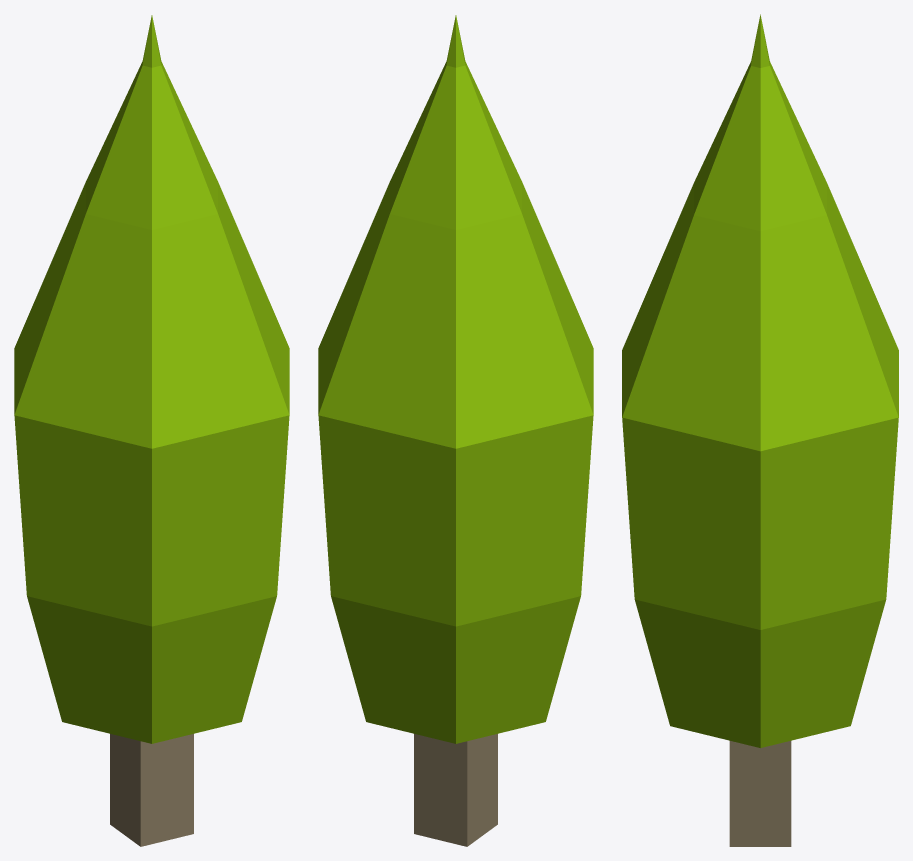
Rendered from tree_cone_3.fbx.
3 views of the same model, side by side, from view 1: azimuth 30°, elevation 25°; view 2: azimuth 150°, elevation 25°; view 3: azimuth 270°, elevation 25° (orthographic).
Visible parts, largest first — view 1: tree_cone_3; view 2: tree_cone_3; view 3: tree_cone_3.
Boxes of the visible parts, box(x1,y1,x2,y2) form: tree_cone_3: box(14, 15, 289, 846); tree_cone_3: box(318, 15, 593, 846); tree_cone_3: box(622, 14, 898, 846).
Size of the model in its own units: 63.48 by 180 by 54.98.
